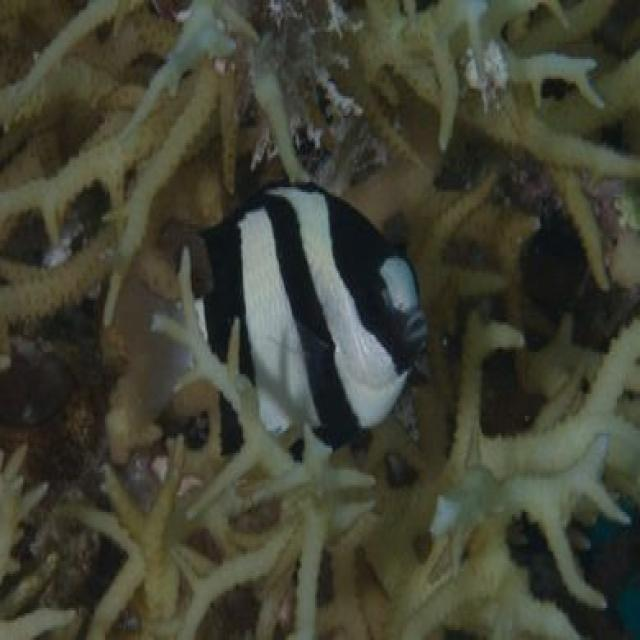ThreeStripedDamselfish: (125, 174, 429, 464)
